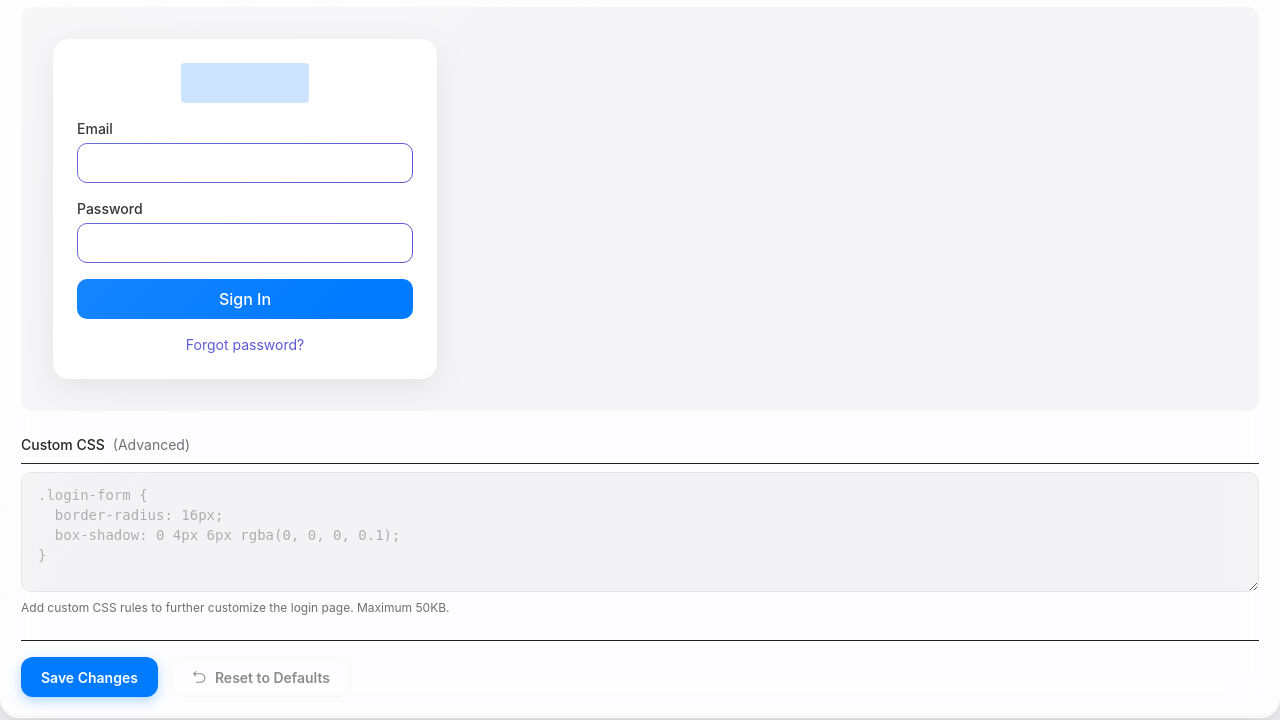
Branding Settings Page › displays error message when action returns error
The image size is (1280, 720).
(page scrolled)
Step 1. Click the button "Save Changes" → [89, 677], box [21, 657, 158, 697]
(page scrolled)
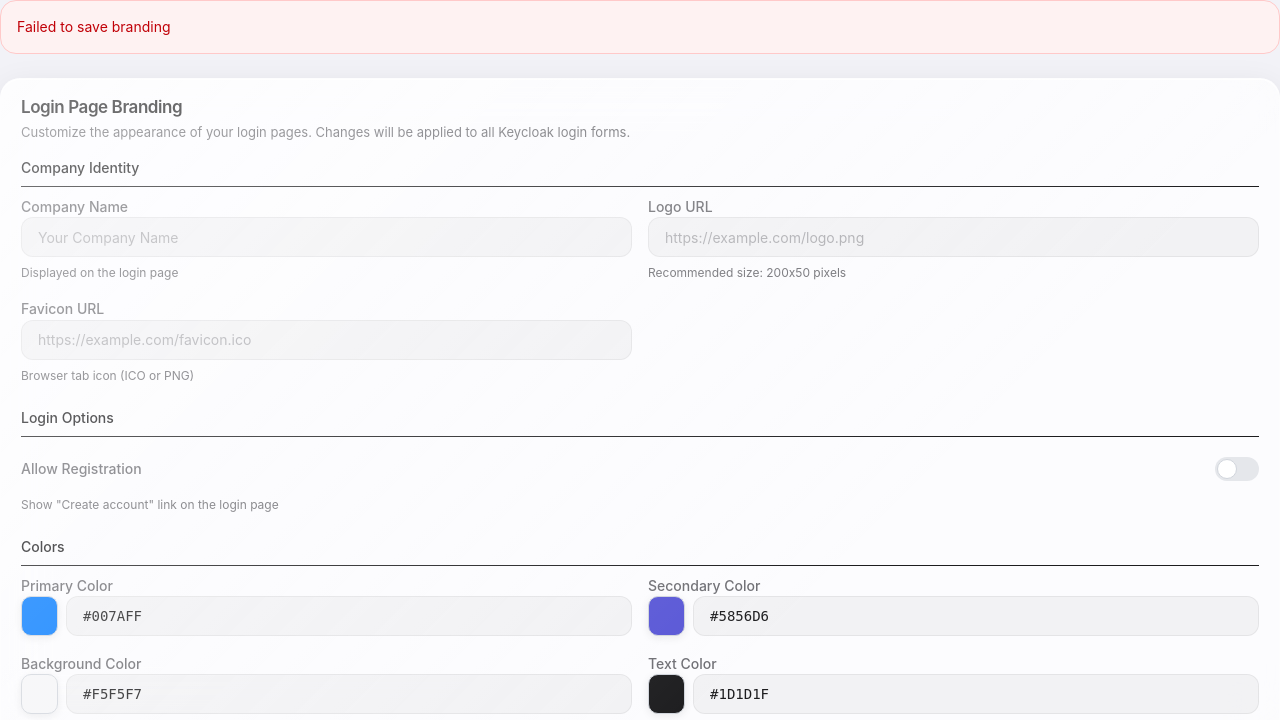
Check: the text "Failed to save branding" is shown, box [0, 0, 1279, 54]
